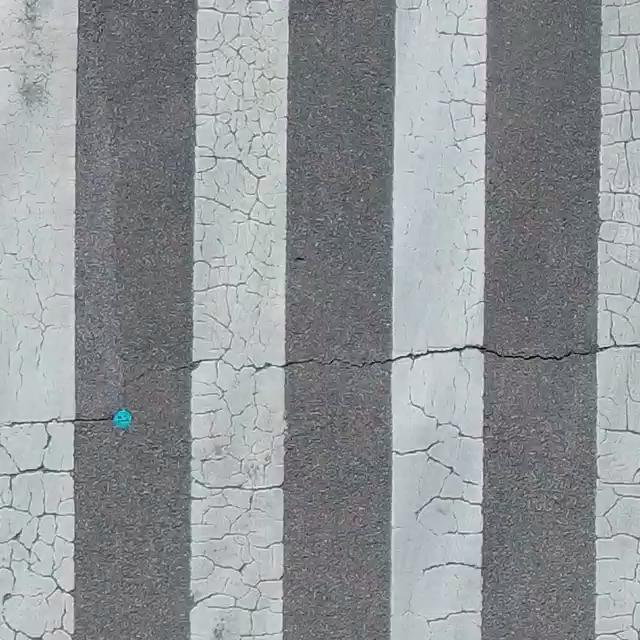GRIETA: (265, 343, 609, 368), (10, 414, 111, 425)
PIEL DE COCODRILO: (190, 0, 288, 639), (597, 0, 639, 639), (390, 388, 484, 639), (0, 422, 74, 639)
